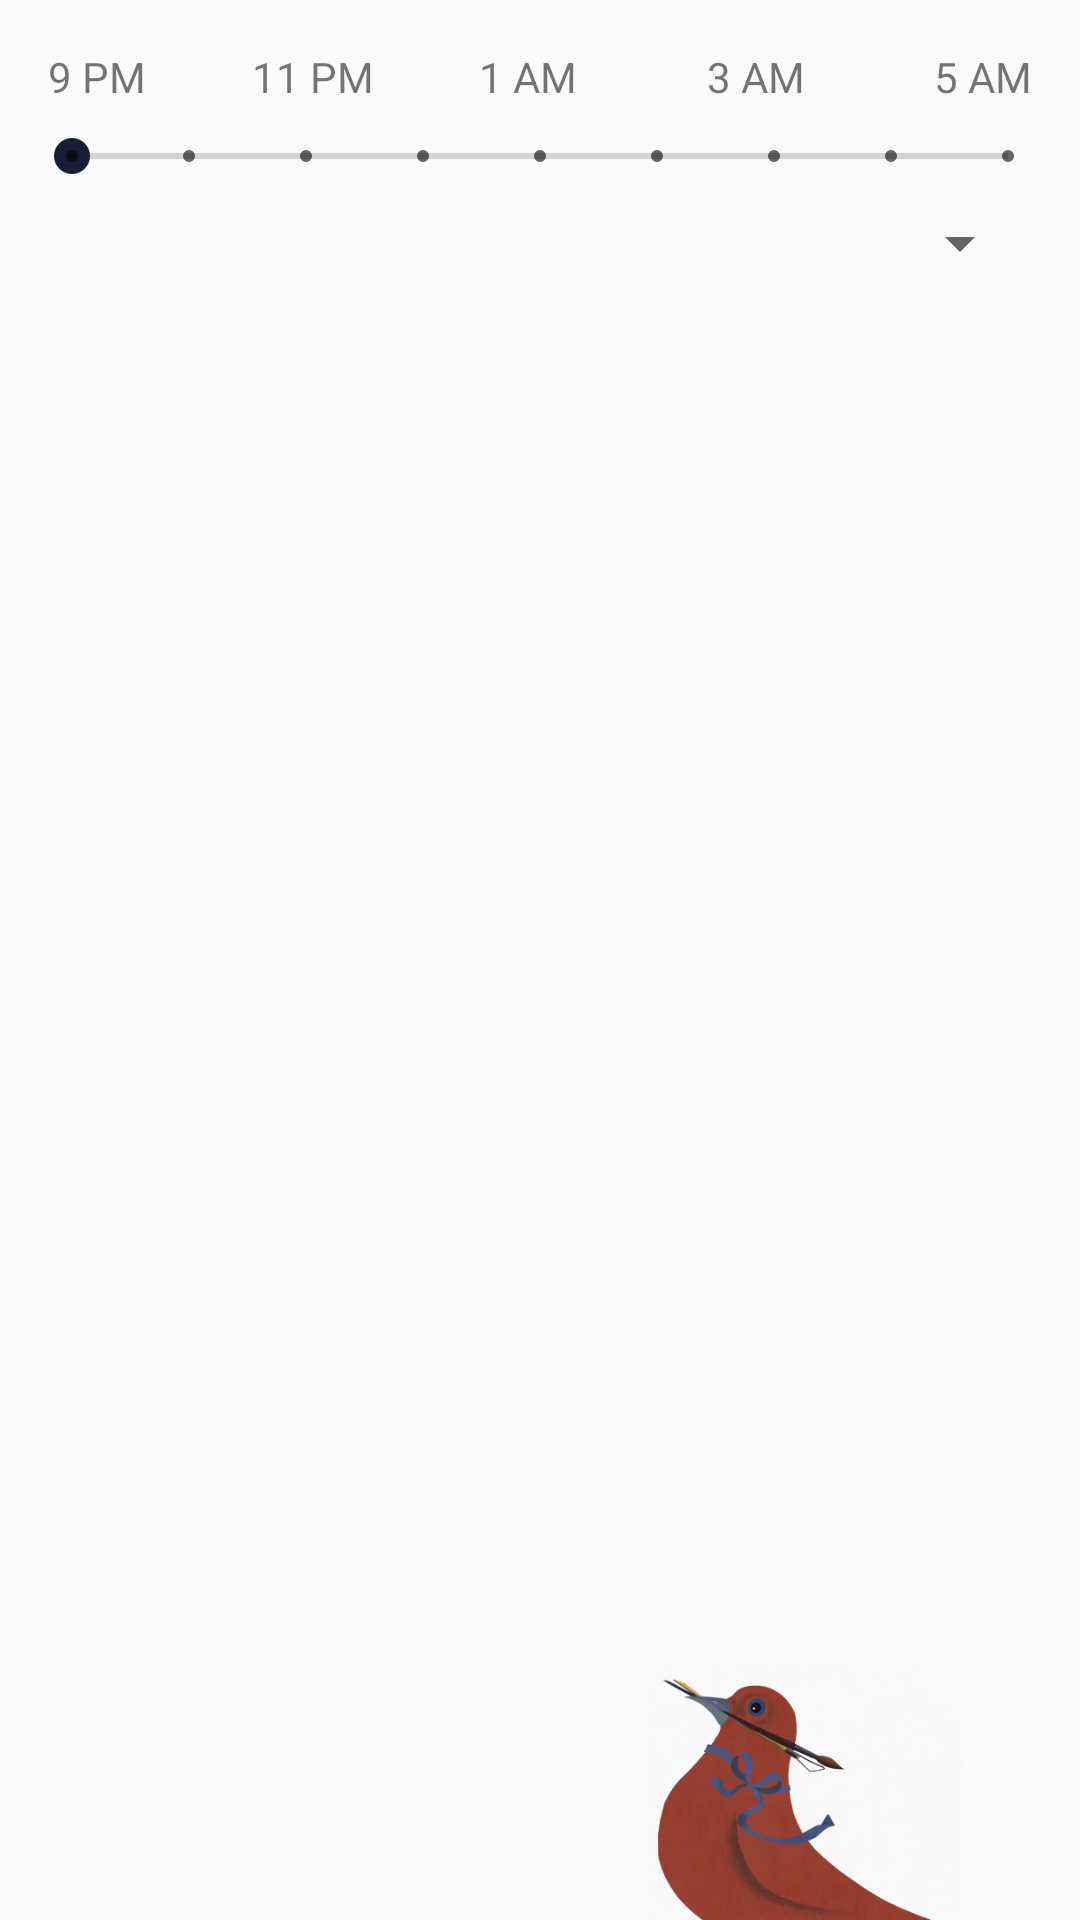

Locate icon controls on the screen. Image size 1080 x 1920, boxes as (x1, y1, x2, y2).
bird: (658, 1679, 931, 1920)
